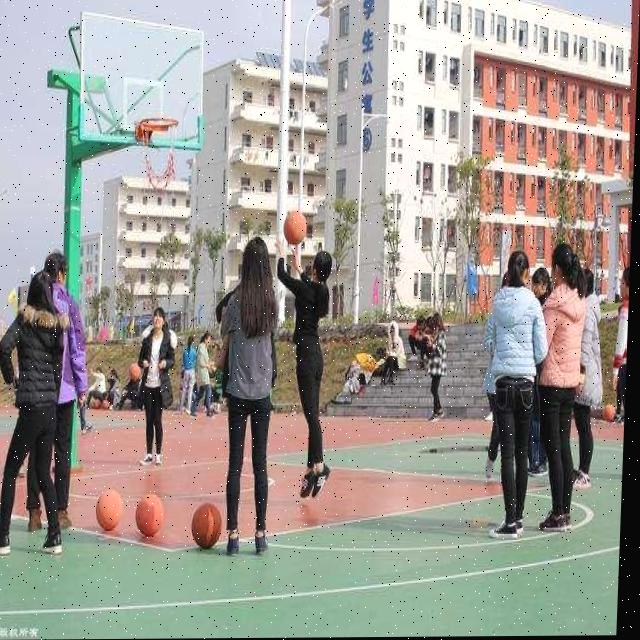basketball: (191, 503, 223, 550), (135, 493, 165, 537), (95, 489, 126, 529), (281, 210, 309, 252), (128, 363, 141, 382)
hoop: (136, 113, 181, 194)
